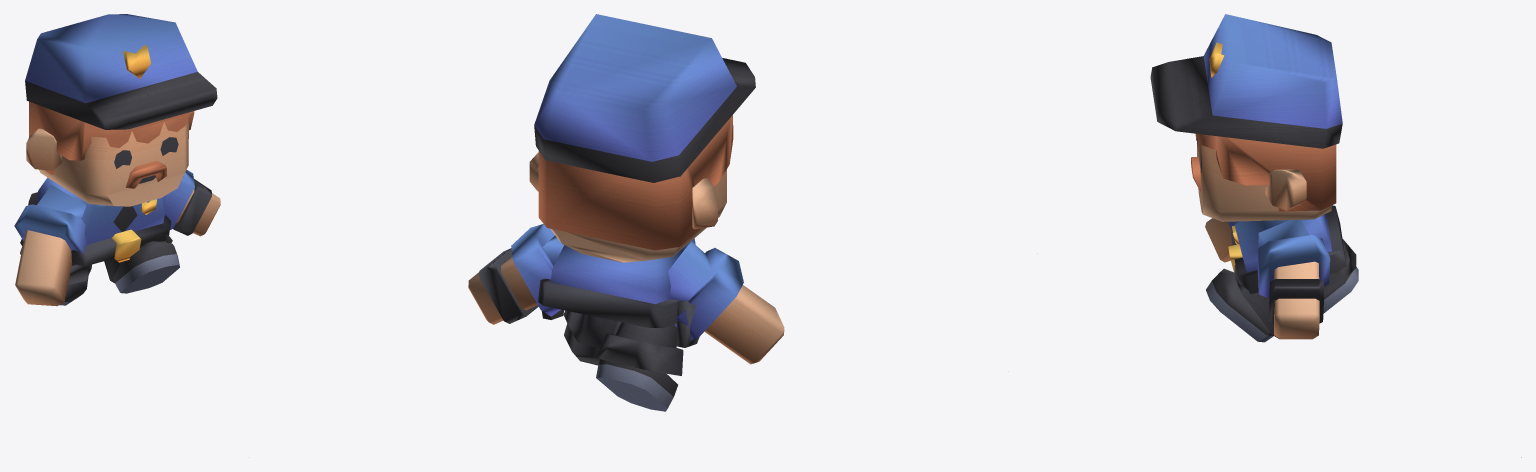
File: leader_sprint_1.glb
3 views of the same model, side by side, from view 1: azimuth 30°, elevation 25°; view 2: azimuth 150°, elevation 25°; view 3: azimuth 270°, elevation 25° (orthographic). The views are drawn at different scales.
Parts seen in each view (by area): view 1: leader-sprint-1; view 2: leader-sprint-1; view 3: leader-sprint-1.
Boxes of the visible parts, box(x1,y1,x2,y2) form: leader-sprint-1: box(14, 14, 220, 306); leader-sprint-1: box(468, 14, 784, 411); leader-sprint-1: box(1150, 14, 1521, 457).
Bounding box in the file's own units: 1.2 × 0.8732 × 1.2.
1 material, 1 textured.
